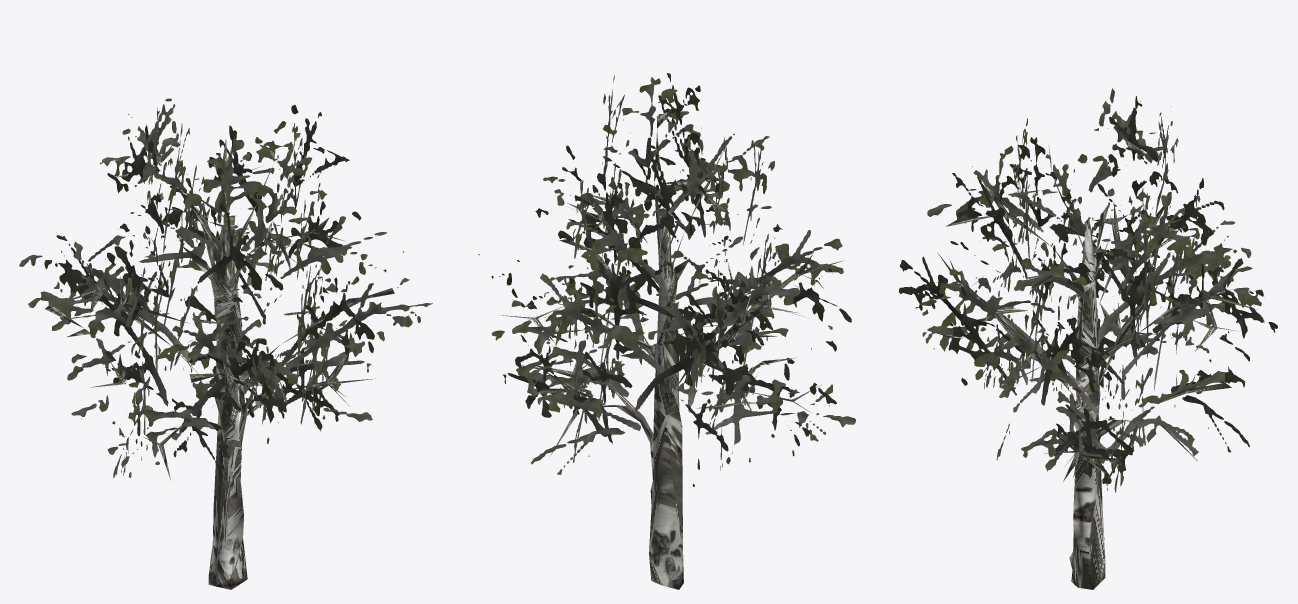
File: tree_birch.glb
3 renders of one model, left to right at view 1: azimuth 30°, elevation 25°; view 2: azimuth 150°, elevation 25°; view 3: azimuth 270°, elevation 25°, orthographic. The views are drawn at different scales.
Parts seen in each view (by area): view 1: tree_birch; view 2: tree_birch; view 3: tree_birch.
Part boxes in pixels (x1=…): tree_birch: x1=19, y1=98, x2=432, y2=589; tree_birch: x1=478, y1=73, x2=855, y2=589; tree_birch: x1=899, y1=88, x2=1277, y2=589.
Size of the model in its own units: 0.8119 by 0.9876 by 0.7254.
Materials: 1 (1 with a texture image).
